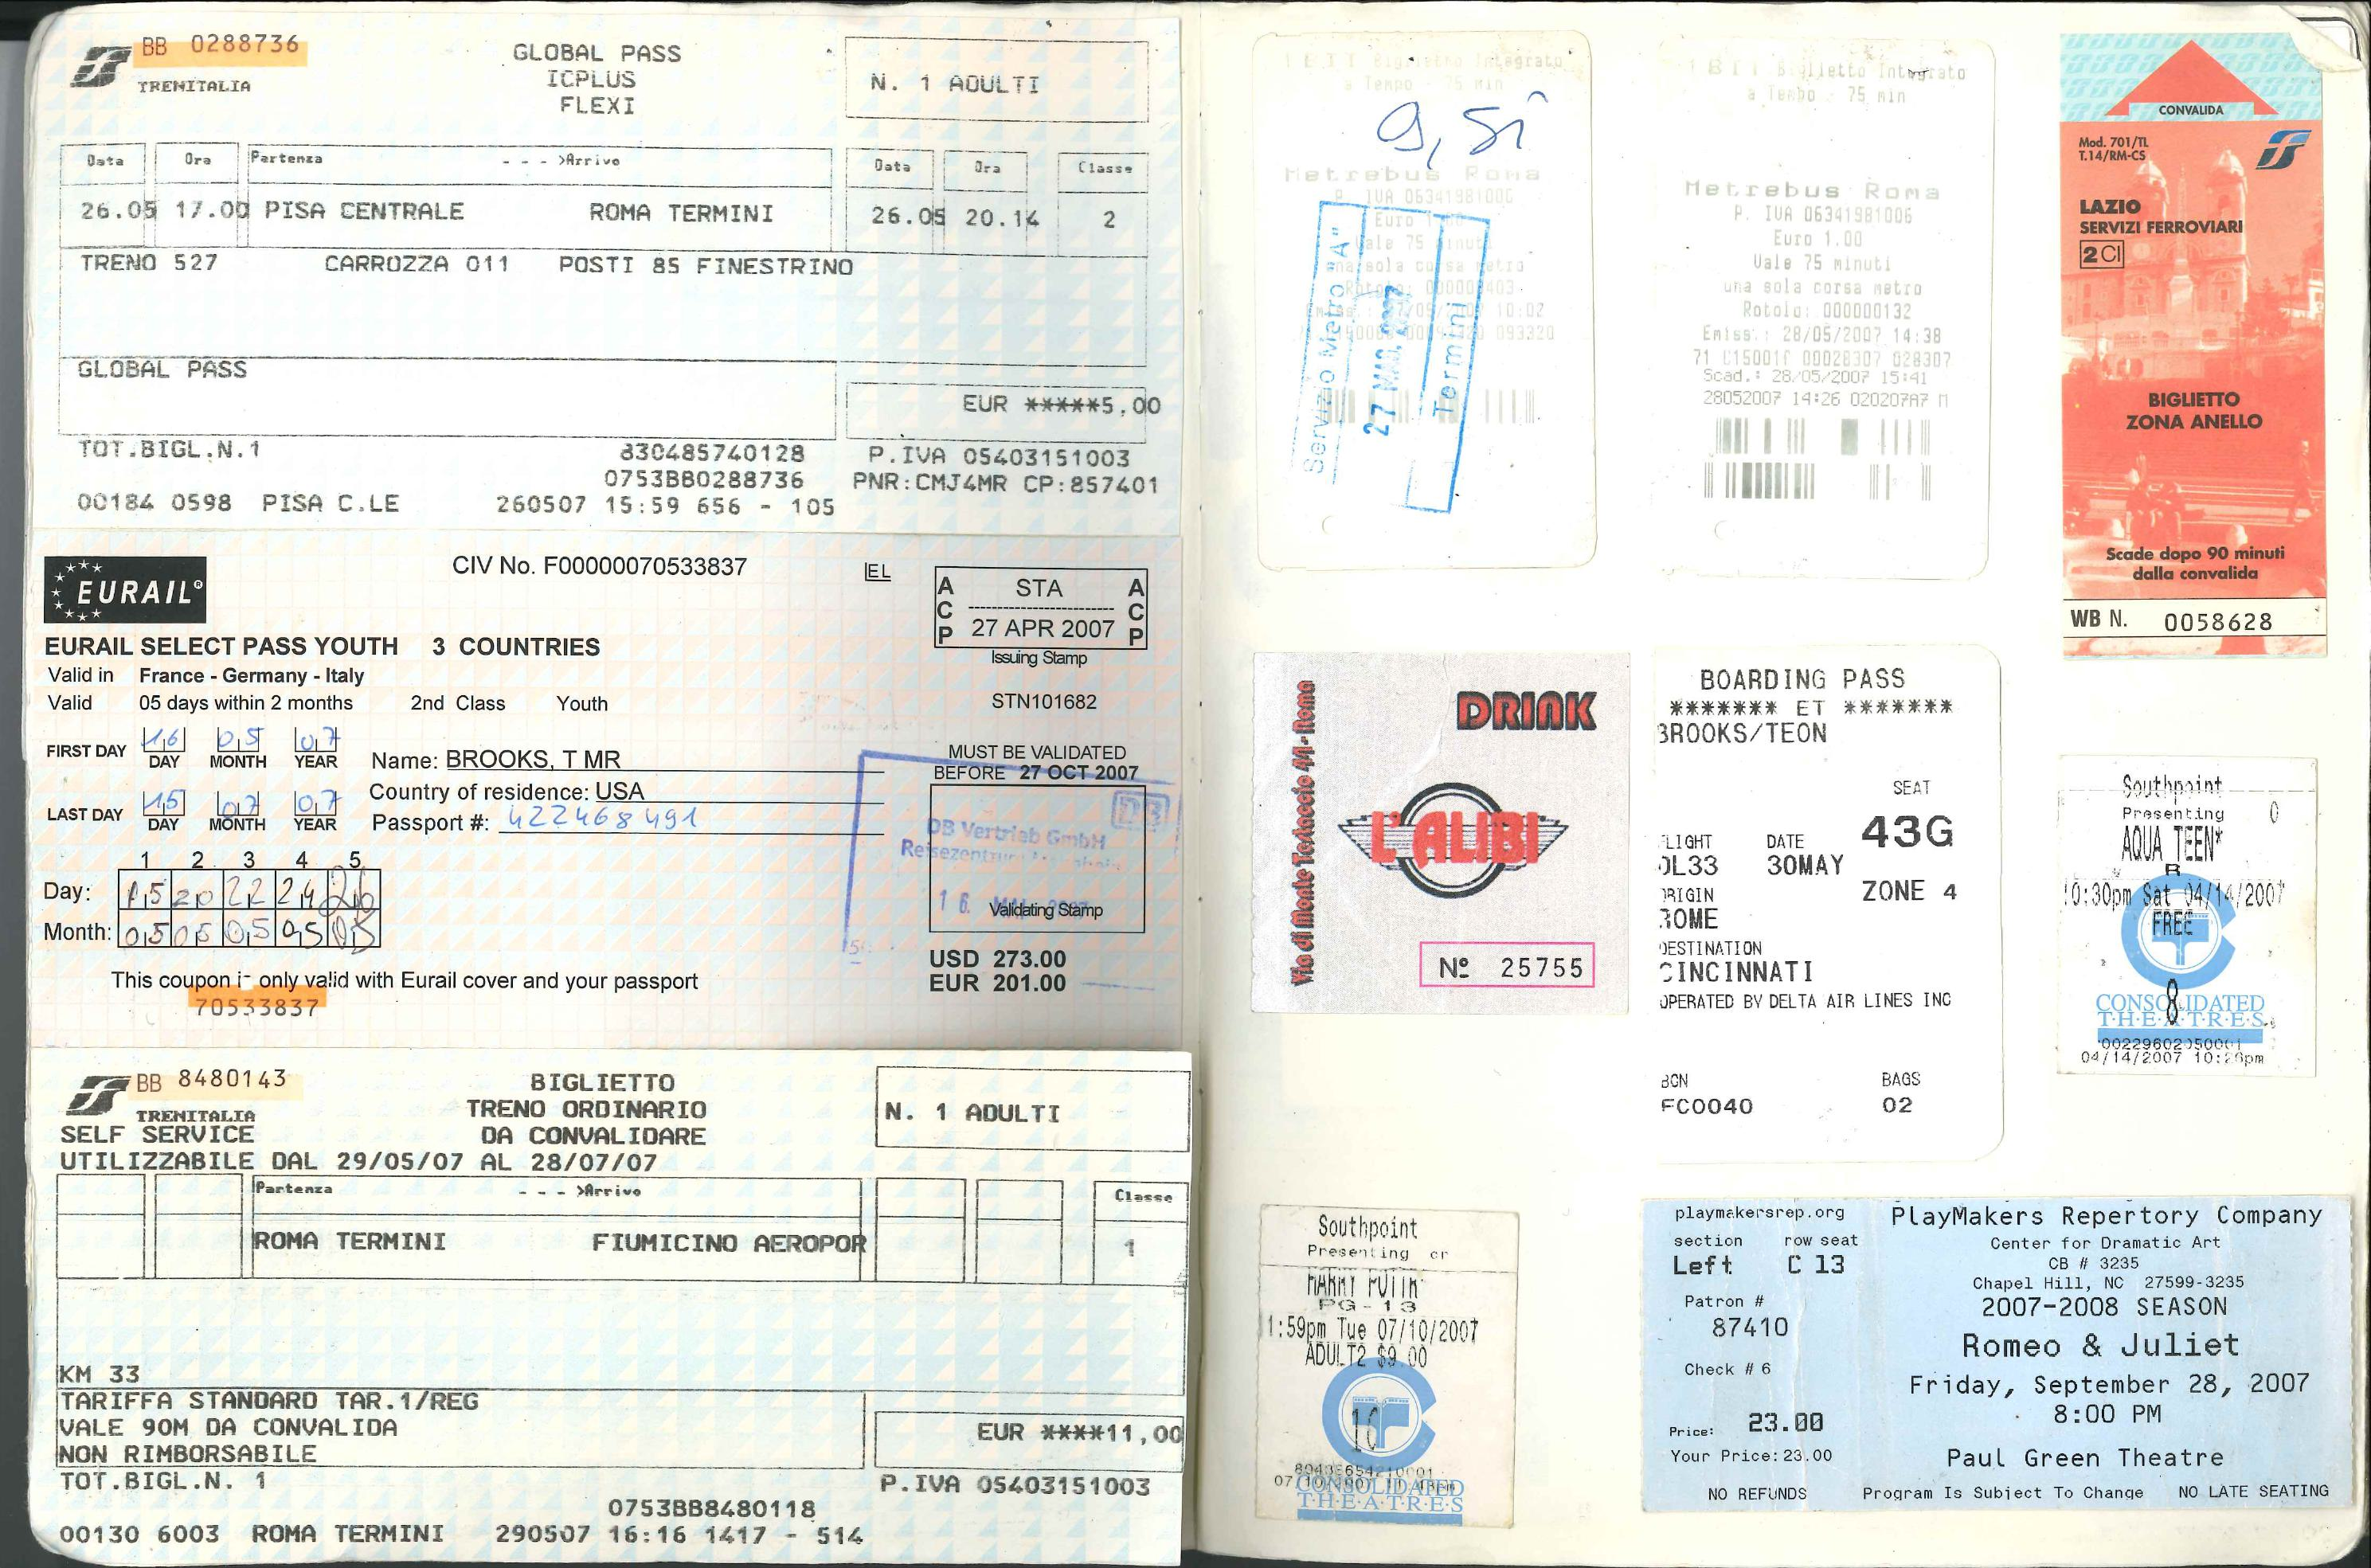stub: (31, 532, 1199, 1050), (31, 5, 1183, 530), (30, 1055, 1199, 1563), (1647, 1195, 2361, 1515), (1244, 31, 1610, 567), (1633, 642, 2009, 1162), (2046, 19, 2340, 660), (1648, 26, 1990, 576), (1255, 649, 1631, 1017), (1253, 1204, 1526, 1531), (2051, 759, 2324, 1081)
